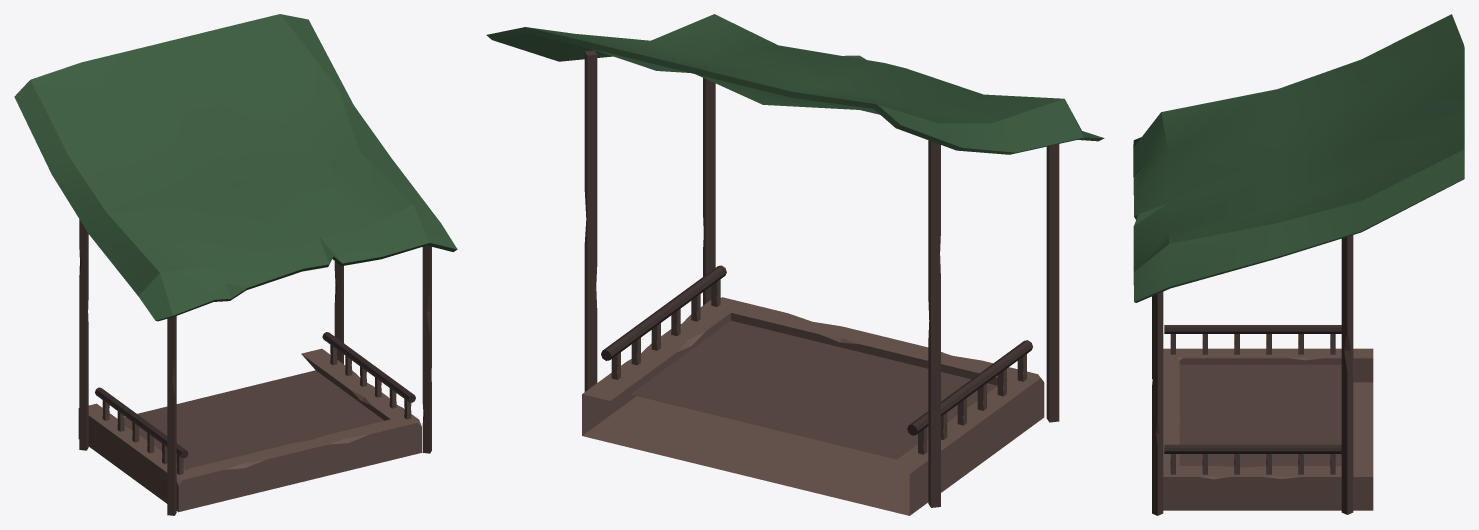
The model's file is SM_Env_Stall_02.fbx.
3 views of the same model, side by side, from view 1: azimuth 30°, elevation 25°; view 2: azimuth 150°, elevation 25°; view 3: azimuth 270°, elevation 25° (orthographic). The views are drawn at different scales.
Visible parts, largest first — view 1: SM_Env_Stall_02; view 2: SM_Env_Stall_02; view 3: SM_Env_Stall_02.
Boxes of the visible parts, box(x1,y1,x2,y2) form: SM_Env_Stall_02: box(14, 14, 457, 515); SM_Env_Stall_02: box(486, 14, 1104, 515); SM_Env_Stall_02: box(1133, 14, 1464, 515).
Size of the model in its own units: 280 by 293 by 243.
Materials: 1 (1 with a texture image).
